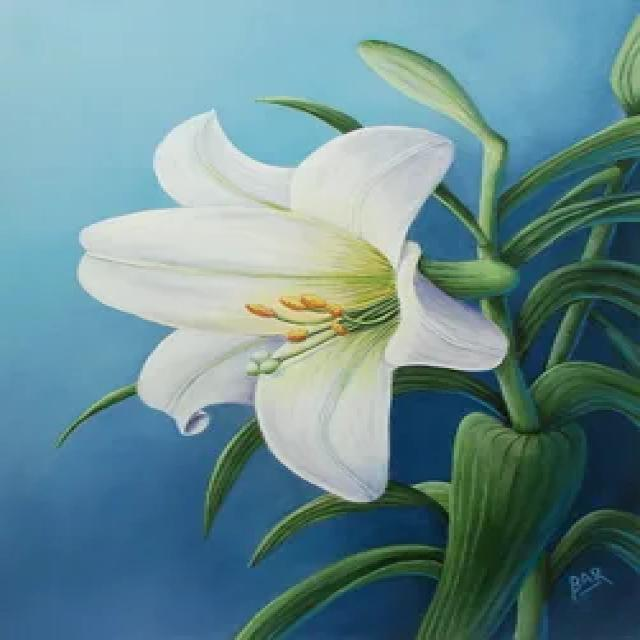lily: (60, 88, 522, 502)
